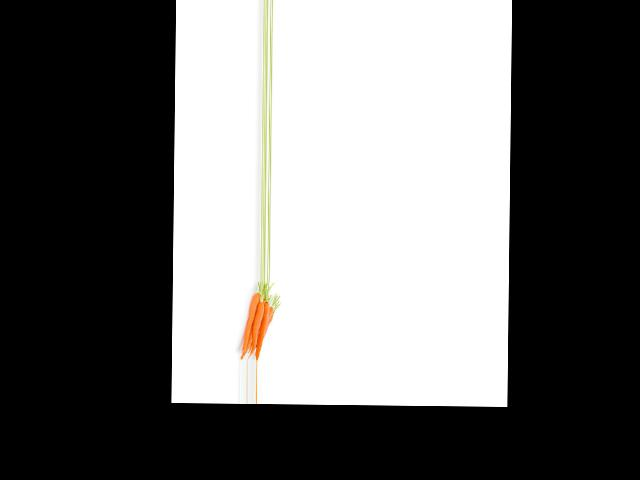carrot: (243, 290, 255, 359)
